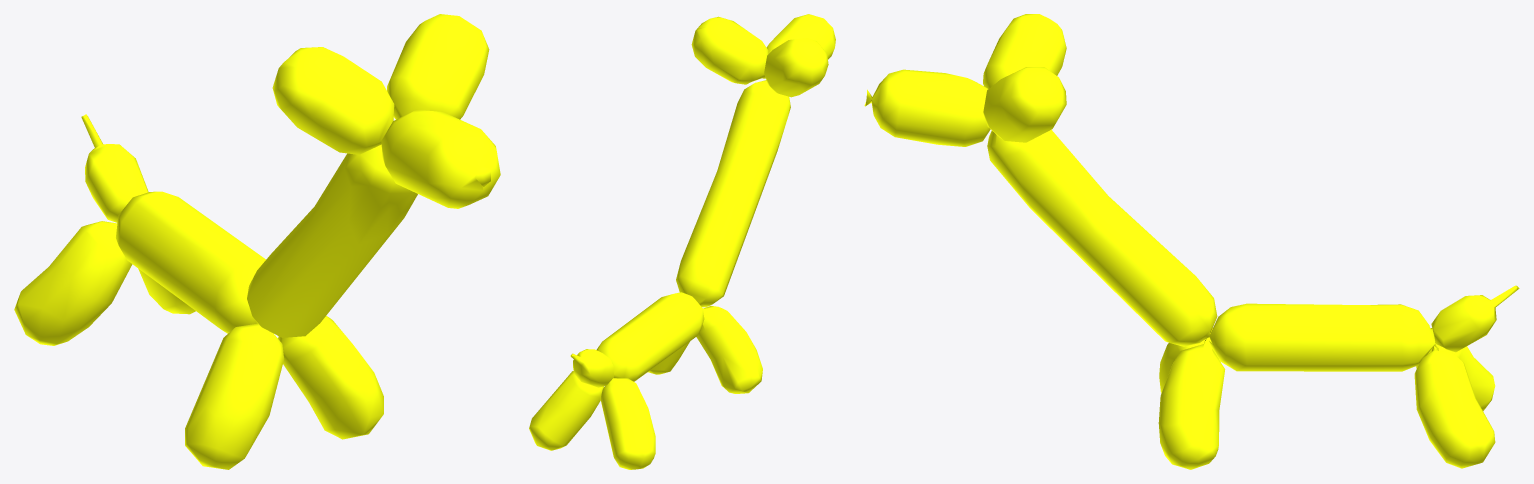
File: 8abba433-83d9-4bac-8266-074a82dcaec6.glb
3 views of the same model, side by side, from view 1: azimuth 30°, elevation 25°; view 2: azimuth 150°, elevation 25°; view 3: azimuth 270°, elevation 25° (orthographic). The views are drawn at different scales.
Parts seen in each view (by area): view 1: BalloonAnimalTallYellow; view 2: BalloonAnimalTallYellow; view 3: BalloonAnimalTallYellow.
Boxes of the visible parts, x1=… form: BalloonAnimalTallYellow: x1=14, y1=14, x2=500, y2=469; BalloonAnimalTallYellow: x1=529, y1=14, x2=835, y2=469; BalloonAnimalTallYellow: x1=864, y1=14, x2=1519, y2=469.
Size of what is drawn, in the model's own units: 0.2693 by 0.6135 by 0.9162.
1 material, 1 textured.
